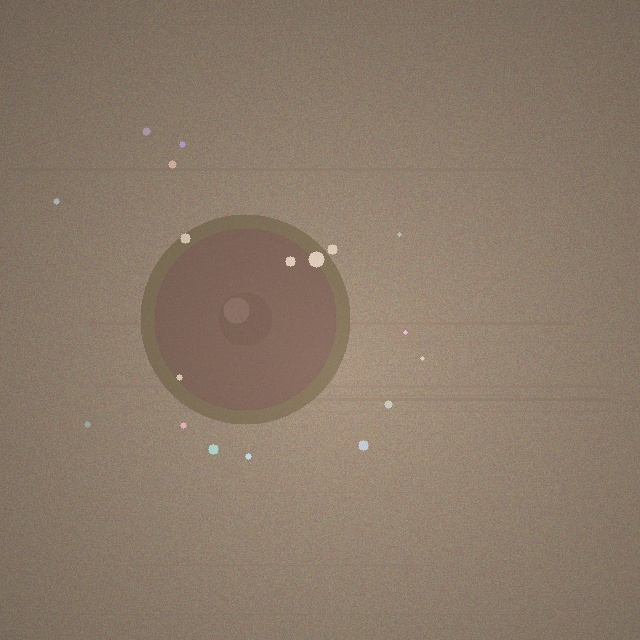overburn: (140, 214, 350, 424)
